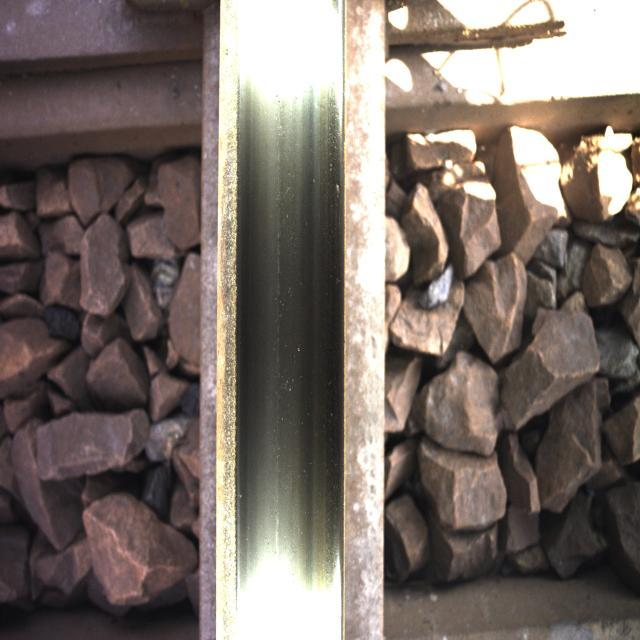break: (239, 69, 339, 550)
